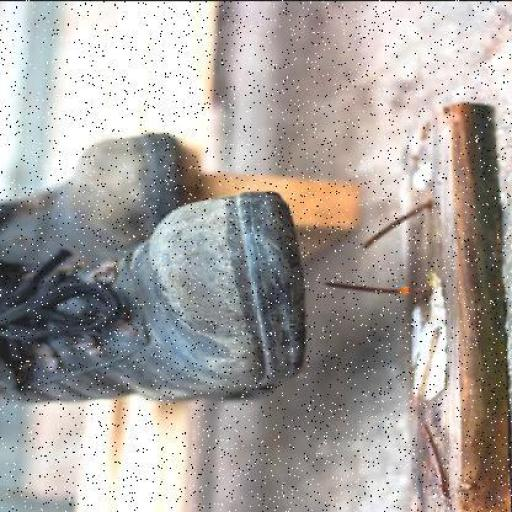safety_shoe: (9, 196, 307, 407), (0, 122, 182, 271)
